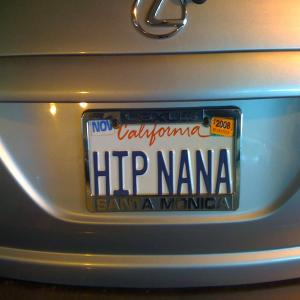Vehicle-registration-plate: (82, 107, 244, 214)
